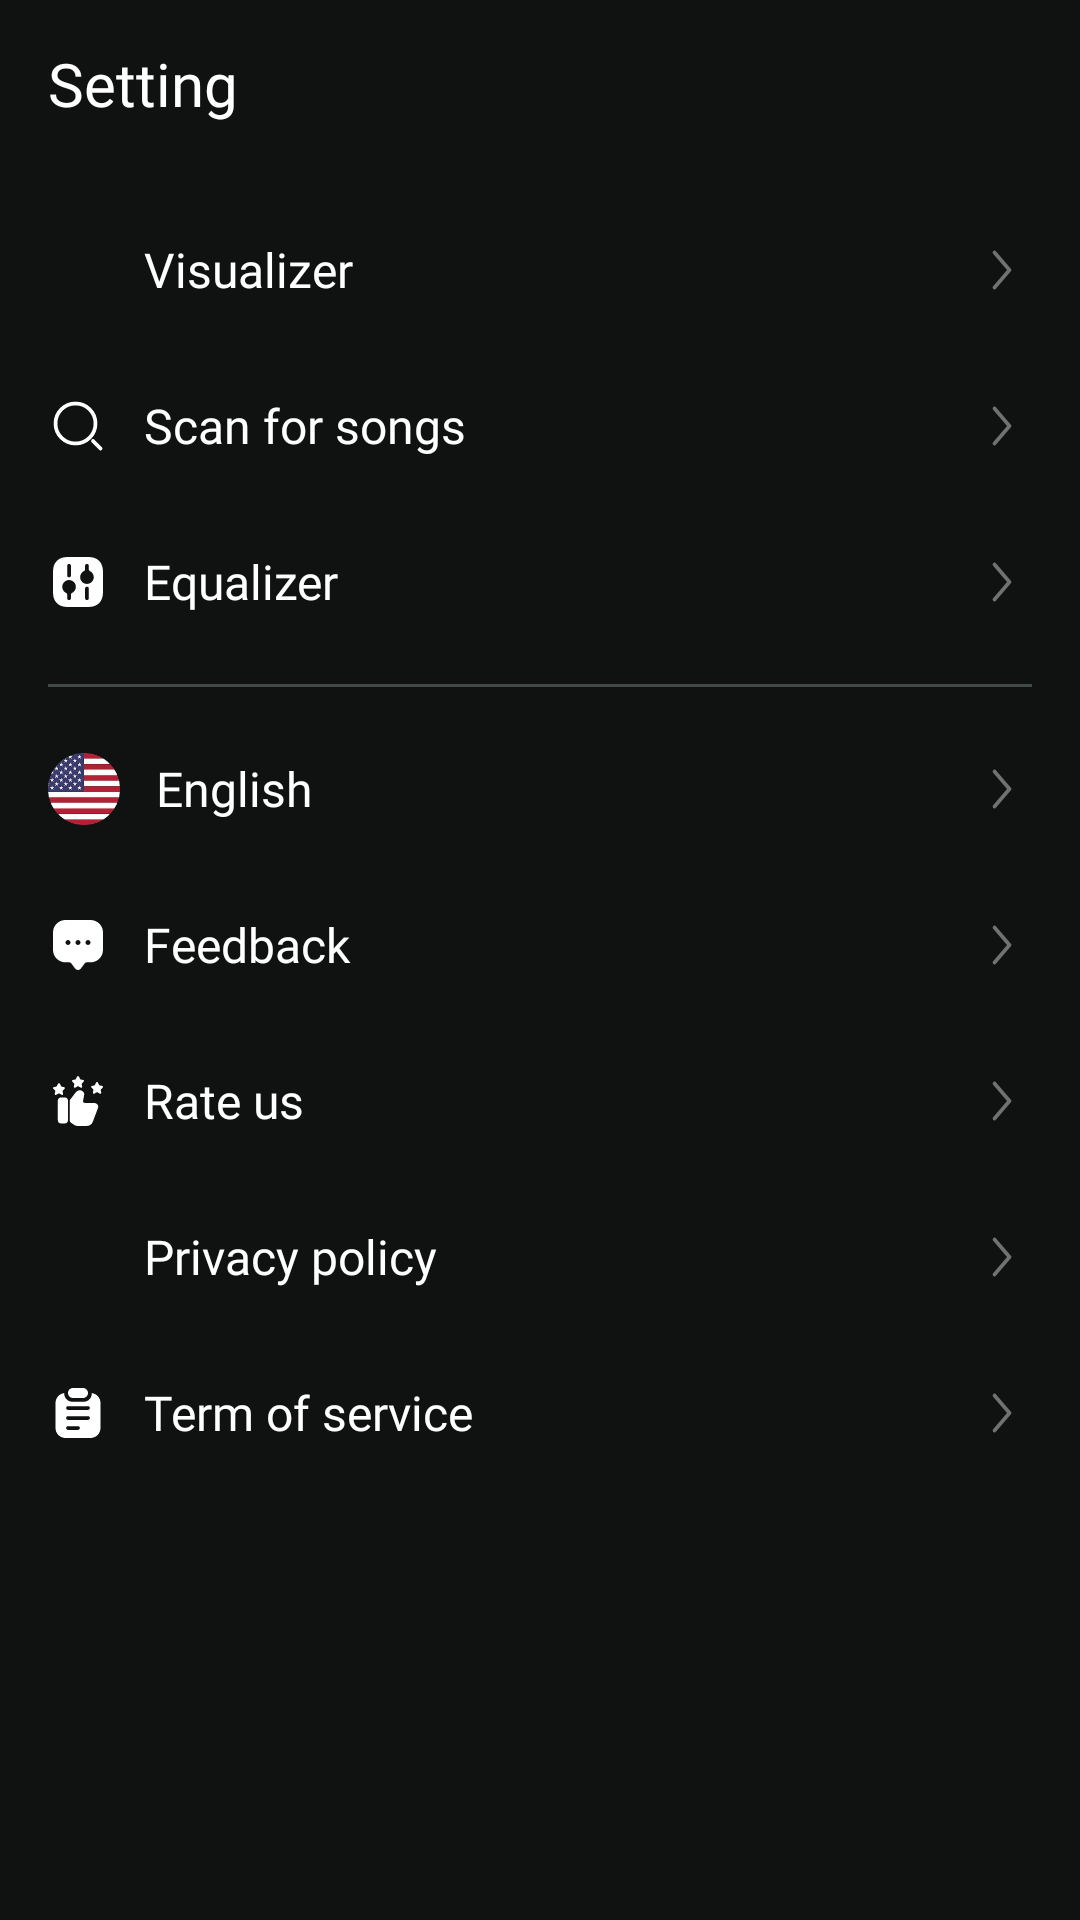

Where icons sit on this 1080px×1920px app screen, as bbox(x1, y1, x2, y2):
arrow right: bbox(992, 250, 1011, 290), bbox(992, 406, 1011, 446), bbox(992, 562, 1011, 602), bbox(992, 769, 1011, 809), bbox(992, 925, 1011, 965), bbox(992, 1081, 1011, 1121), bbox(992, 1237, 1011, 1277), bbox(992, 1393, 1011, 1433)
flag us: bbox(48, 753, 120, 825)
rating: bbox(53, 1076, 103, 1126)
search: bbox(53, 401, 103, 451)
